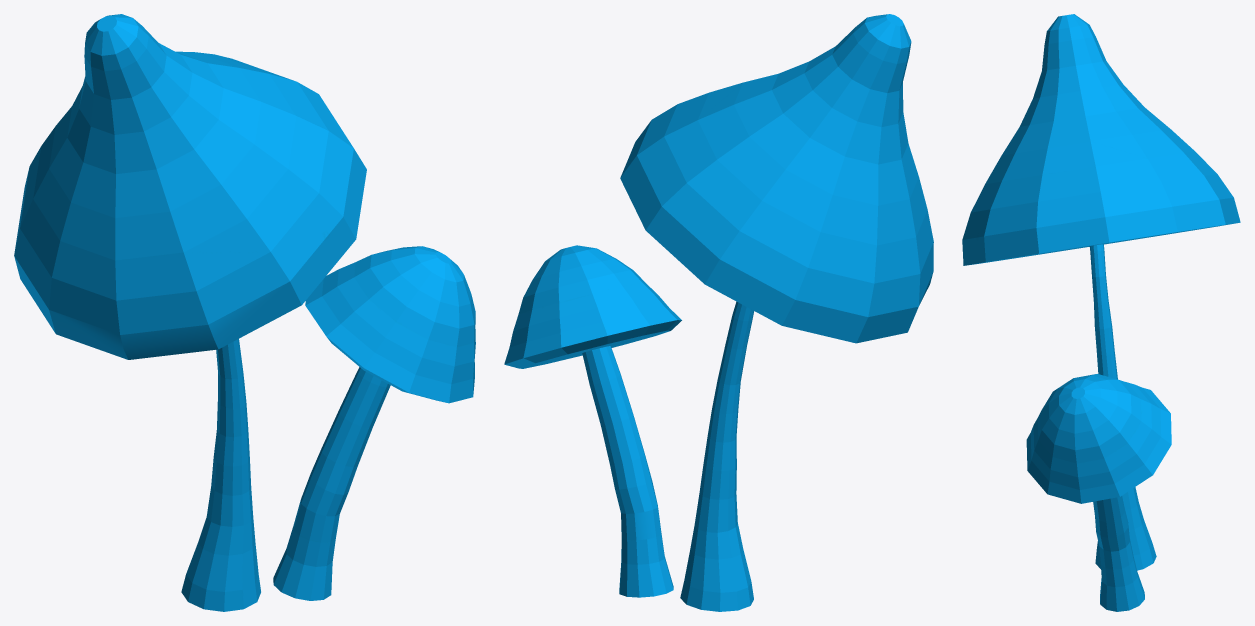
The model's file is Mushroom_One.fbx.
The picture shows the model from 3 angles, left to right: view 1: azimuth 30°, elevation 25°; view 2: azimuth 150°, elevation 25°; view 3: azimuth 270°, elevation 25°; orthographic projection. The views are drawn at different scales.
Parts seen in each view (by area): view 1: node_id12; view 2: node_id12; view 3: node_id12.
Boxes of the visible parts, x1,y1,x2,y2 form: node_id12: (14, 14, 475, 611); node_id12: (504, 14, 933, 611); node_id12: (962, 14, 1240, 611).
Bounding box in the file's own units: 0.3466 × 0.512 × 0.2564.
Materials: 1 (1 with a texture image).
